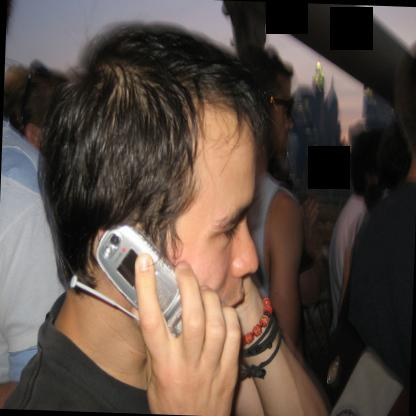backpack: (311, 246, 410, 416)
